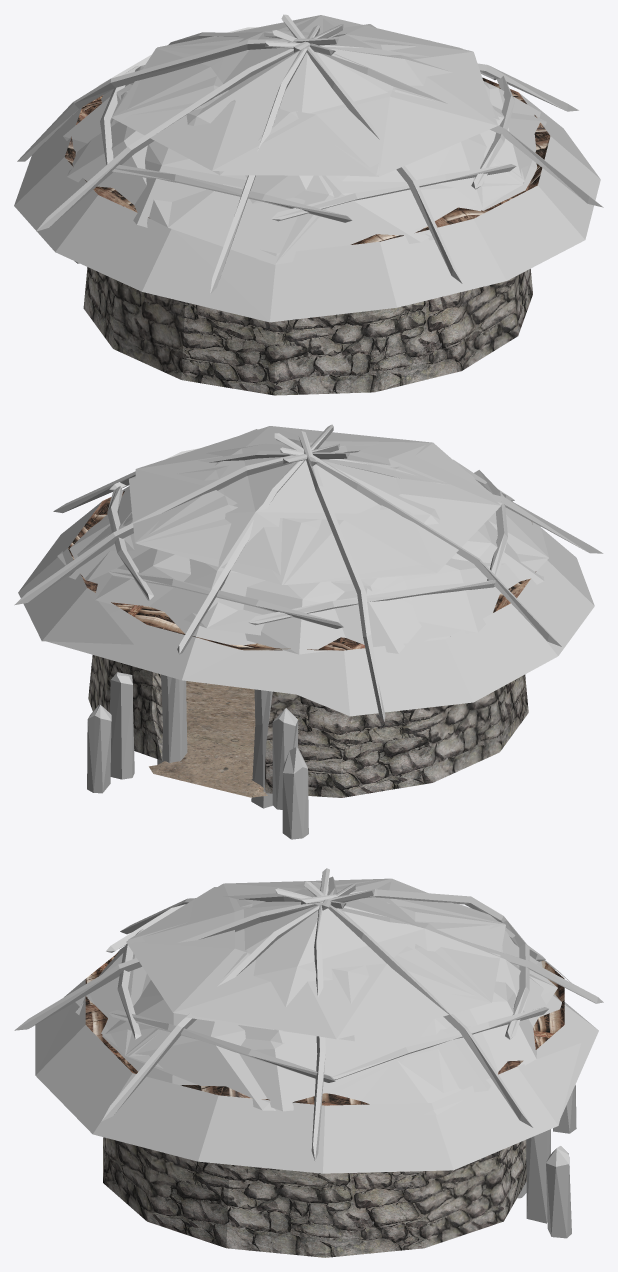
Rendered from RoundHut_4_LOD2.fbx.
The picture shows the model from 3 angles, top to bottom: view 1: azimuth 30°, elevation 25°; view 2: azimuth 150°, elevation 25°; view 3: azimuth 270°, elevation 25°; orthographic projection. The views are drawn at different scales.
Visible parts, largest first — view 1: Alpha, Stone, Wood, Roof; view 2: Alpha, Wood, Stone, Ground, Roof; view 3: Alpha, Stone, Wood, Roof.
Boxes of the visible parts, left/top/right/bottom form: Alpha: left=14, top=15, right=600, bottom=322; Stone: left=83, top=267, right=532, bottom=395; Wood: left=17, top=14, right=603, bottom=294; Roof: left=64, top=77, right=550, bottom=244; Alpha: left=18, top=426, right=594, bottom=716; Wood: left=14, top=424, right=603, bottom=839; Stone: left=88, top=655, right=528, bottom=797; Ground: left=149, top=681, right=267, bottom=797; Roof: left=68, top=491, right=536, bottom=650; Alpha: left=35, top=878, right=598, bottom=1173; Stone: left=103, top=1137, right=526, bottom=1257; Wood: left=14, top=868, right=603, bottom=1238; Roof: left=85, top=952, right=564, bottom=1105.
Bounding box in the file's own units: 1224 × 1161 × 645.
